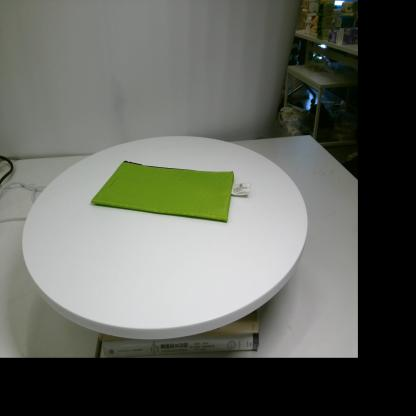Stationery: (91, 160, 251, 221)
